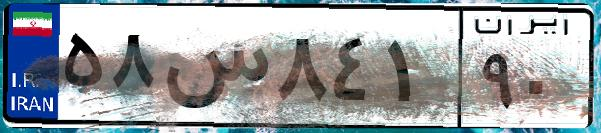0: (525, 38, 570, 115)
1: (385, 28, 445, 110)
4: (330, 28, 385, 110)
5: (57, 26, 110, 100)
8: (270, 28, 330, 110), (110, 28, 158, 98)
9: (475, 38, 525, 113)
س: (158, 20, 270, 120)
